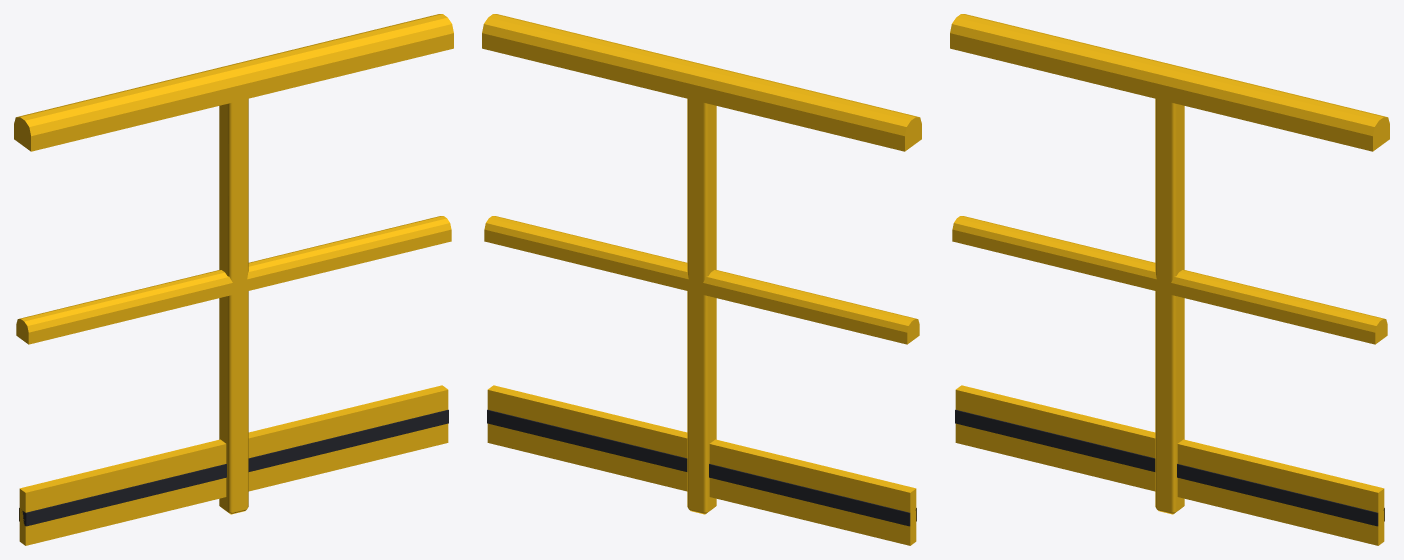
The model's file is gelaender.glb.
3 renders of one model, left to right at view 1: azimuth 30°, elevation 25°; view 2: azimuth 150°, elevation 25°; view 3: azimuth 330°, elevation 25°, orthographic.
Parts seen in each view (by area): view 1: gelaender; view 2: gelaender; view 3: gelaender.
Boxes of the visible parts, left/top/right/bottom form: gelaender: left=14, top=14, right=453, bottom=545; gelaender: left=482, top=14, right=921, bottom=545; gelaender: left=950, top=14, right=1389, bottom=545.
Bounding box in the file's own units: 1 × 1 × 0.07.
